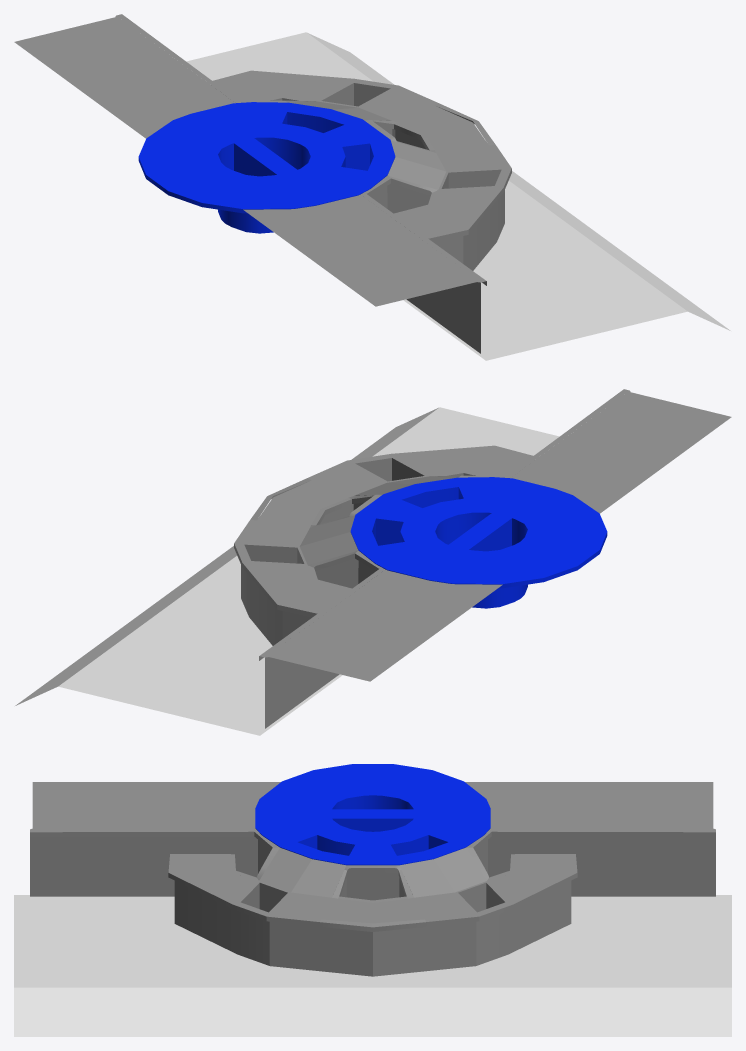
File: SM_Dungeon_Struct_Floor.FBX
The picture shows the model from 3 angles, top to bottom: view 1: azimuth 30°, elevation 25°; view 2: azimuth 150°, elevation 25°; view 3: azimuth 270°, elevation 25°; orthographic projection. The views are drawn at different scales.
Parts seen in each view (by area): view 1: SM_Structure_Dungeon_SideFloor, SM_Structure_Dungeon_BaseFloor, SM_Structure_Dungeon_MainFloor; view 2: SM_Structure_Dungeon_SideFloor, SM_Structure_Dungeon_BaseFloor, SM_Structure_Dungeon_MainFloor; view 3: SM_Structure_Dungeon_SideFloor, SM_Structure_Dungeon_BaseFloor, SM_Structure_Dungeon_MainFloor.
Part boxes in pixels (x1=…): SM_Structure_Dungeon_SideFloor: x1=14, y1=14, x2=511, y2=353; SM_Structure_Dungeon_BaseFloor: x1=186, y1=32, x2=730, y2=360; SM_Structure_Dungeon_MainFloor: x1=138, y1=102, x2=395, y2=233; SM_Structure_Dungeon_SideFloor: x1=234, y1=389, x2=731, y2=728; SM_Structure_Dungeon_BaseFloor: x1=15, y1=407, x2=559, y2=735; SM_Structure_Dungeon_MainFloor: x1=350, y1=477, x2=607, y2=608; SM_Structure_Dungeon_SideFloor: x1=30, y1=782, x2=715, y2=976; SM_Structure_Dungeon_BaseFloor: x1=14, y1=895, x2=731, y2=1036; SM_Structure_Dungeon_MainFloor: x1=255, y1=764, x2=490, y2=865.
Size of what is drawn, in the model's own units: 13.41 by 3.43 by 23.09.
